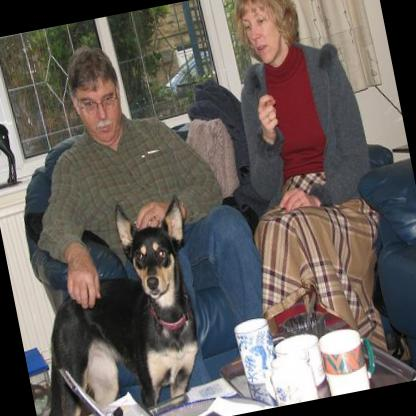kelpie: (0, 190, 219, 416)
